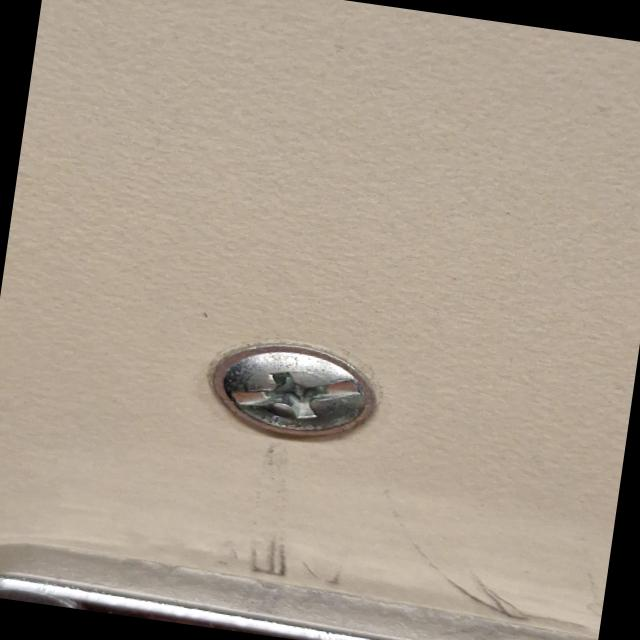Phillips: (158, 322, 414, 471)
